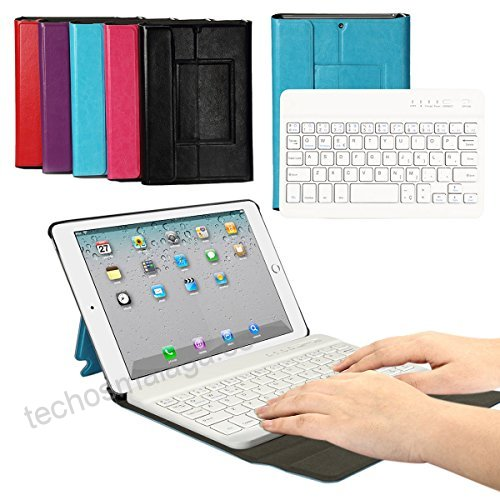Teclado: (133, 331, 404, 447), (280, 79, 496, 222)
